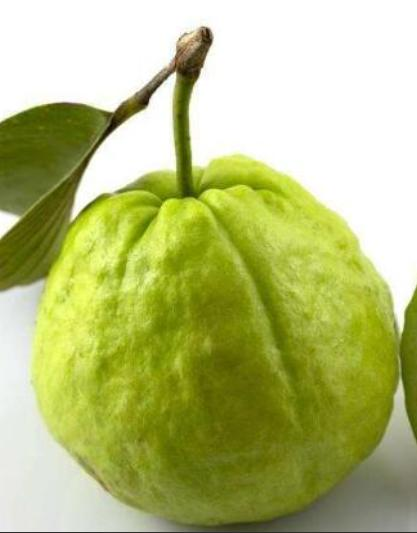guava_A: (33, 153, 399, 526)
